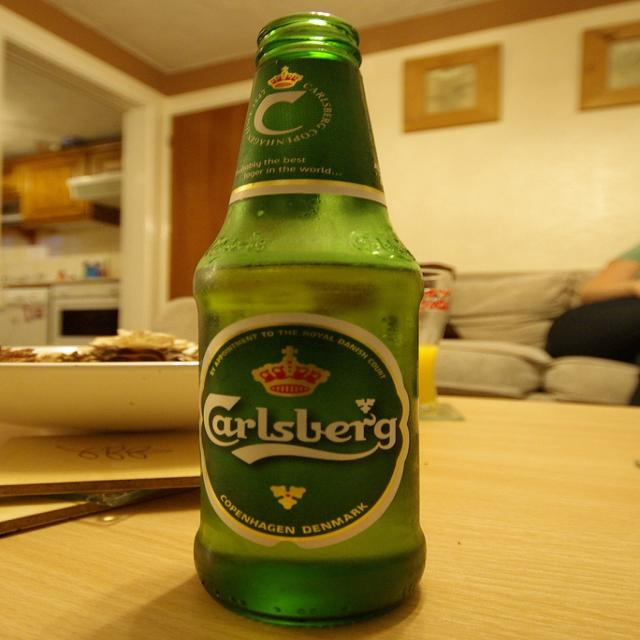carlsberg: (200, 324, 405, 543)
